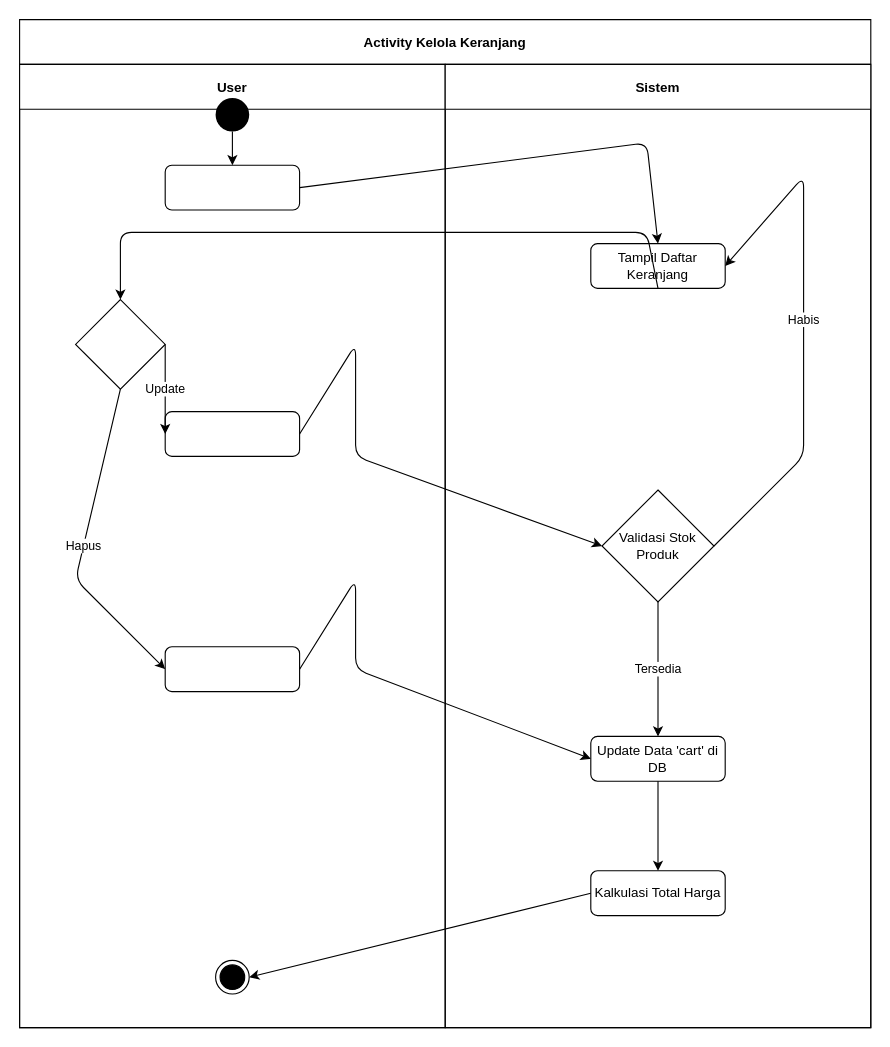
The diagram is 890 pixels wide and 1047 high, and some of its shapes have lost their labels. The centre of each missing label's shape, as x and y in pixels:
Aksi?: [119,343]
Klik Ikon Hapus: [232,669]
Klik Tambah ke Keranjang di Katalog: [232,187]
Ubah Jumlah (Qty): [232,433]
